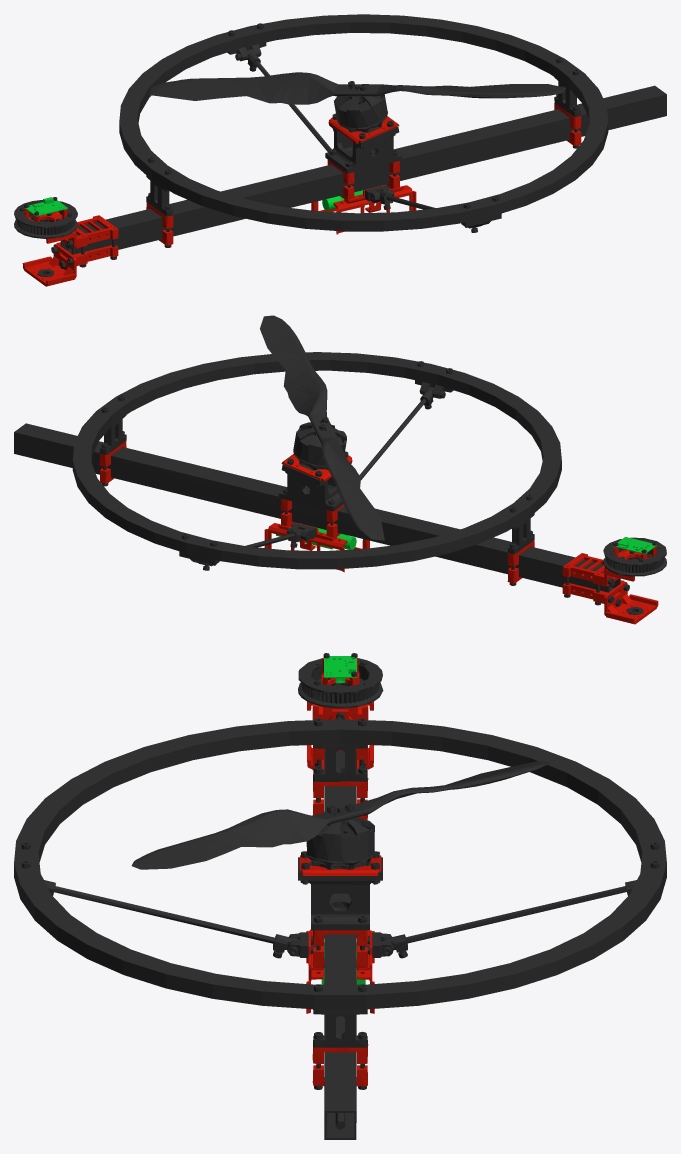
File: tilt_10deg_fix_joint_link2.dae
3 views of the same model, one above another, from view 1: azimuth 30°, elevation 25°; view 2: azimuth 150°, elevation 25°; view 3: azimuth 270°, elevation 25° (orthographic). The views are drawn at different scales.
Visible parts, largest first — view 1: tilt_10deg_link2_fix_joint_black, tilt_10deg_link2_fix_joint_red, link2_fix_joint_green; view 2: tilt_10deg_link2_fix_joint_black, tilt_10deg_link2_fix_joint_red, link2_fix_joint_green; view 3: tilt_10deg_link2_fix_joint_black, tilt_10deg_link2_fix_joint_red, link2_fix_joint_green.
Part boxes in pixels (left/top/right/bottom): tilt_10deg_link2_fix_joint_black: left=14, top=14, right=666, bottom=276; tilt_10deg_link2_fix_joint_red: left=22, top=103, right=581, bottom=286; link2_fix_joint_green: left=23, top=185, right=382, bottom=216; tilt_10deg_link2_fix_joint_black: left=14, top=315, right=666, bottom=614; tilt_10deg_link2_fix_joint_red: left=99, top=441, right=658, bottom=624; link2_fix_joint_green: left=276, top=528, right=657, bottom=554; tilt_10deg_link2_fix_joint_black: left=14, top=653, right=666, bottom=1139; tilt_10deg_link2_fix_joint_red: left=299, top=657, right=381, bottom=1086; link2_fix_joint_green: left=321, top=656, right=365, bottom=984.
Bounding box in the file's own units: 0.6066 × 0.3997 × 0.1362.
